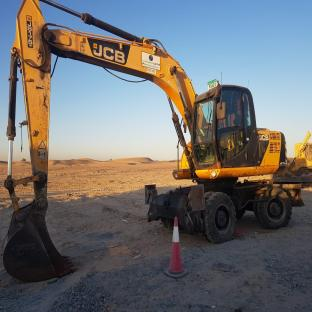ExcavationMachinery: (6, 3, 299, 279)
